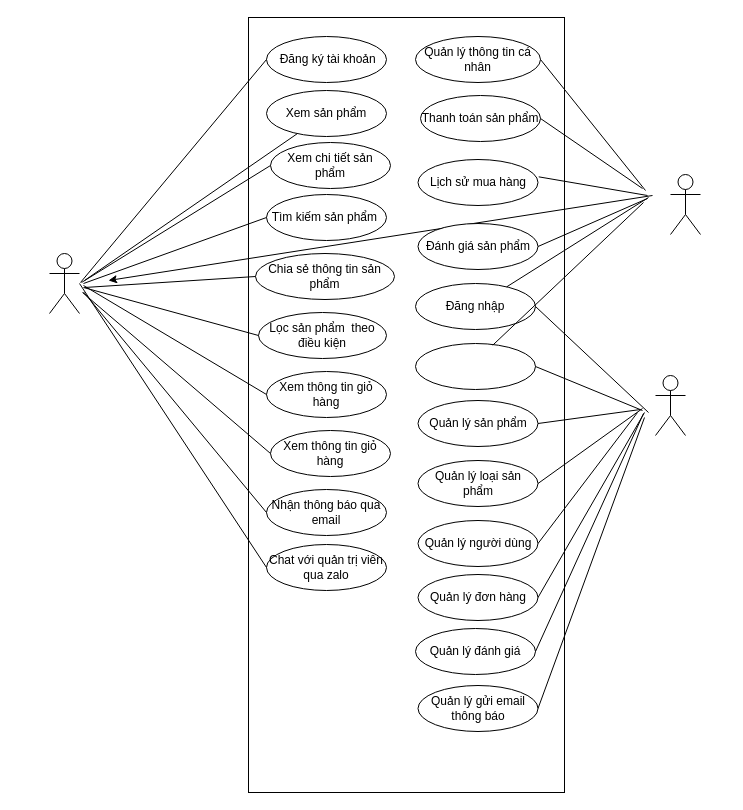
Image size: 743x810. Some labels were removed from this diagram. Here are the shapes that lost their labels. From the top down, the box of each, then its label:
(670, 174, 700, 234): Người dùng đã có tài khoản
(48, 252, 80, 314): Người dùng chưa có tài khoản
(414, 342, 536, 390): Đăng xuất
(654, 374, 686, 436): Admin
